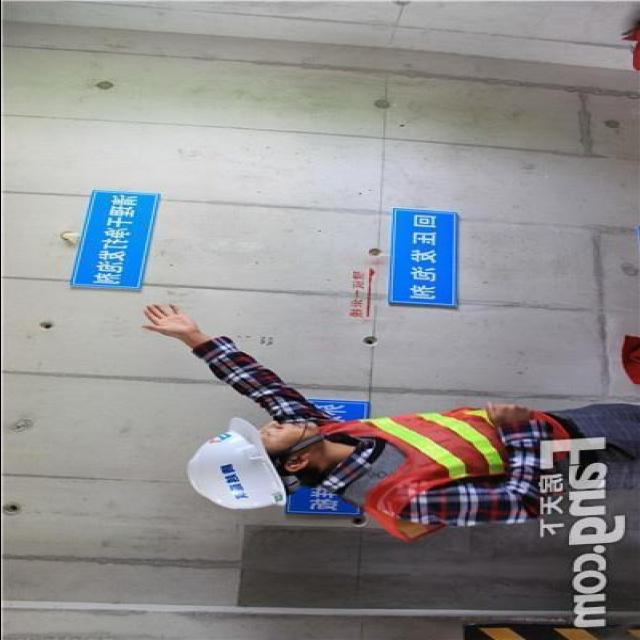helmet: (172, 401, 289, 515)
jacket: (312, 406, 576, 540)
